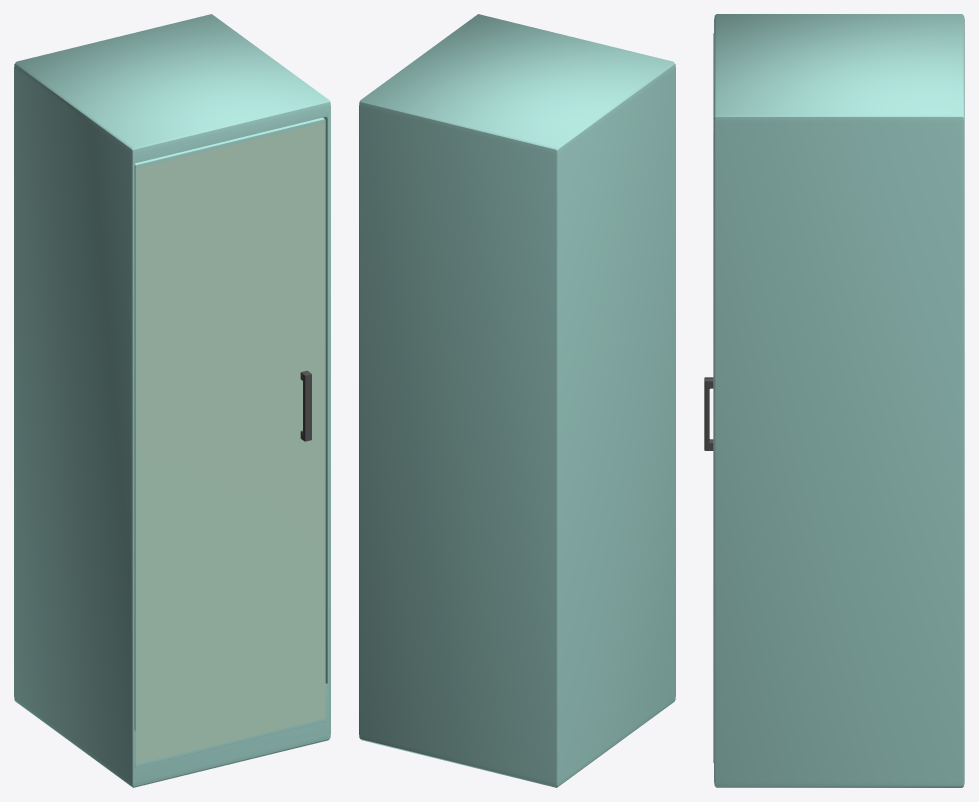
File: one_shelf.fbx
The picture shows the model from 3 angles, left to right: view 1: azimuth 30°, elevation 25°; view 2: azimuth 150°, elevation 25°; view 3: azimuth 270°, elevation 25°; orthographic projection. The views are drawn at different scales.
Visible parts, largest first — view 1: Cube.177, Cube.176; view 2: Cube.176; view 3: Cube.176, Cube.177.
Part boxes in pixels (box(x1,y1,x2,y2)): Cube.177: box(134, 117, 325, 767); Cube.176: box(14, 14, 330, 787); Cube.176: box(359, 14, 675, 787); Cube.176: box(714, 14, 964, 787); Cube.177: box(704, 33, 713, 762).
Bounding box in the file's own units: 83.8 × 257 × 90.2.
